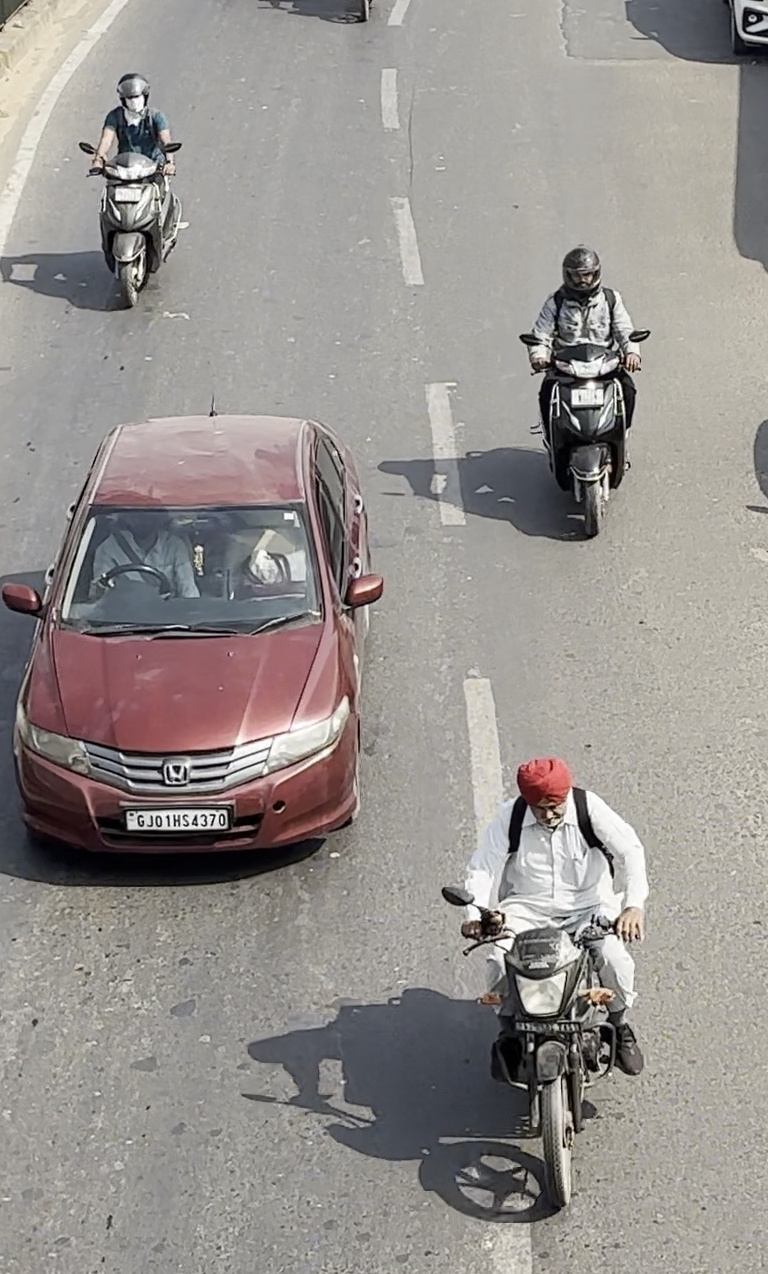BikeWithRider: (432, 753, 657, 1215), (510, 240, 647, 545), (73, 59, 186, 311)
Helmet: (556, 244, 607, 303), (113, 67, 153, 118)
NoHelmet: (506, 755, 575, 832)
